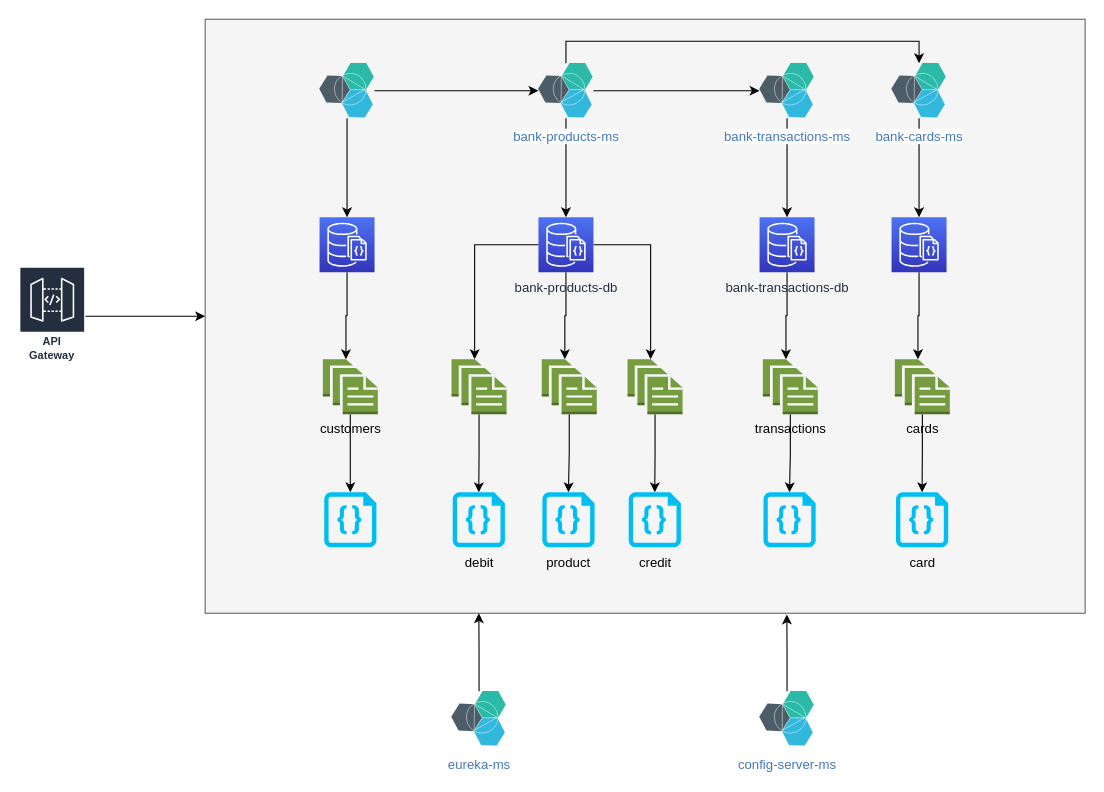
Image size: 1104x792. Some labels were removed from this diagram. Here are the shapes that lost their labels. From the top down, the centre of each, then its label:
point (346, 90): bank-customers-ms
point (346, 244): bank-customers-db
point (918, 244): bank-cards-db
point (478, 386): debits
point (569, 386): products
point (654, 386): credits
point (350, 519): customer
point (789, 519): transaction
